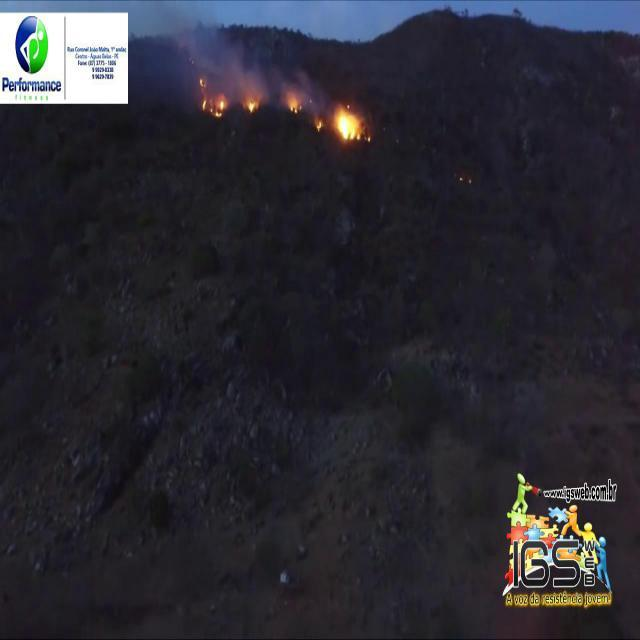Fire: (334, 103, 371, 142), (200, 95, 228, 117), (288, 92, 301, 114), (246, 100, 256, 113), (198, 76, 208, 88), (316, 121, 322, 132)
